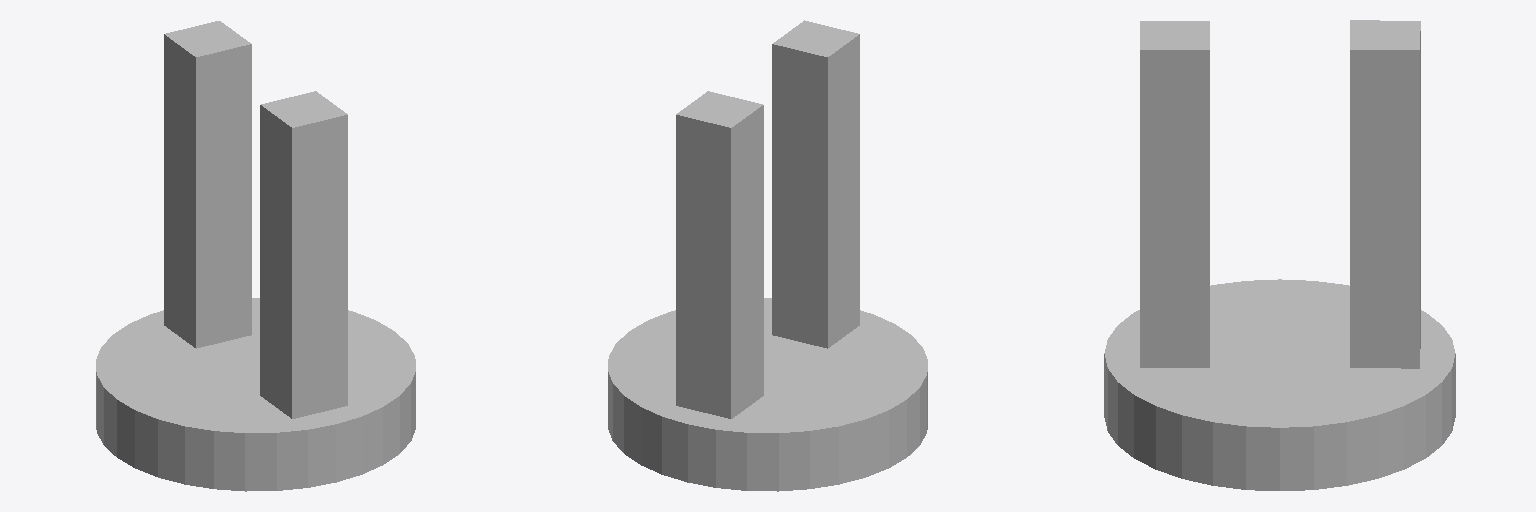
robot.urdf — abb_irb140:
<?xml version="1.0" encoding="UTF-8" ?>

<robot name="abb_irb140" xmlns:xacro="http://ros.org/wiki/xacro">

    <material name="gray">
        <color rgba="0.8 0.8 0.8 1" />
    </material>

    <material name="red">
        <color rgba="0.8 0.0 0.0 1"/>
    </material>

    <link name="base_link"/>

    <link name="base_link_pneumonic_gripper">
        <visual>
            <origin xyz="0.0 0.0 0.1" rpy="0.0 0.0 0.0"/>

            <geometry>
                <cylinder radius="0.5" length="0.2"/>                         
            </geometry>

            <material name="gray"/>
        </visual>
        <collision>

            <origin xyz="0.0 0.0 0.1" rpy="0.0 0.0 0.0"/>

            <geometry> 
                <cylinder radius="0.5" length="0.2"/>                         
            </geometry>

            <material name="red"/>
        </collision>
    </link>

    <link name="gripper_left">
        <visual>
            <origin xyz="0.0 0.0 0.0" rpy="0 0 0"/>
            <geometry>
                <box size="0.2 0.2 1.0"/>
            </geometry>
            <material name="gray"/>
        </visual>
        <collision>
            <origin xyz="0.0 0.0 0.0" rpy="0 0 0"/>
            <geometry>
                <box size="0.2 0.2 1.0"/>
            </geometry>
            <material name="red"/>
        </collision>
    </link>

    <link name="gripper_right">
        <visual>
            <origin xyz="0.0 0.0 0.0" rpy="0 0 0"/>
            <geometry>
                <box size="0.2 0.2 1.0"/>
            </geometry>
            <material name="gray"/>
        </visual>
        <collision>
            <origin xyz="0.0 0.0 0.0" rpy="0 0 0"/>
            <geometry>
                <box size="0.2 0.2 1.0"/>
            </geometry>
            <material name="red"/>
        </collision>
    </link>

<!-- 
    <joint name="base_link_joint" type="fixed">
        <parent link="base_link"/>
        <child link="base_link_pneumonic_gripper"/>
    </joint> -->

    <joint name="base_link_pneumonic_gripper_to_base_link_joint" type="fixed">
        <parent link="base_link"/>
        <child link="base_link_pneumonic_gripper"/>
    </joint>

    <joint name="base_link_pneumonic_gripper_to_gripper_left_joint" type="prismatic">
        <origin xyz="0.0 -0.3 0.7" rpy="0 0 0"/>
        <parent link="base_link_pneumonic_gripper"/>
        <child link="gripper_left"/>

        <axis xyz="0 1 0"/>
        <limit lower="0" upper="0.19" effort="1.34" velocity="1"/>
    </joint>

    <joint name="base_link_pneumonic_gripper_to_gripper_right_joint" type="prismatic">
        <origin xyz="0.0 0.3 0.7" rpy="0 0 3.14"/>
        <parent link="base_link_pneumonic_gripper"/>
        <child link="gripper_right"/>
        
        <axis xyz="0 1 0"/>
        <limit lower="0" upper="0.19" effort="1.34" velocity="1"/>
    </joint>
</robot>

--- What the picture shows (computed from the rendered views, not written in the file) ---
Views: 3 orthographic renders of the robot side by side, from view 1: azimuth 30°, elevation 25°; view 2: azimuth 150°, elevation 25°; view 3: azimuth 270°, elevation 25°.
Model abb_irb140 with 4 links and 3 joints (2 prismatic, 1 fixed), rooted at base_link, posed all joints at 0.
Visible links, largest first — view 1: base_link_pneumonic_gripper, gripper_left, gripper_right; view 2: base_link_pneumonic_gripper, gripper_left, gripper_right; view 3: base_link_pneumonic_gripper, gripper_right, gripper_left.
Link boxes in pixels (box(x1,y1,x2,y2)): base_link_pneumonic_gripper: box(96, 298, 415, 491); gripper_left: box(260, 91, 347, 418); gripper_right: box(164, 21, 251, 348); base_link_pneumonic_gripper: box(608, 298, 927, 491); gripper_left: box(772, 20, 859, 348); gripper_right: box(676, 91, 763, 418); base_link_pneumonic_gripper: box(1104, 279, 1455, 490); gripper_right: box(1350, 20, 1420, 368); gripper_left: box(1140, 21, 1209, 367).
Bounding box of the posed robot: 1 × 1 × 1.2 m (x, y, z).
Geometry: primitives only (box / cylinder / sphere), no mesh files.
